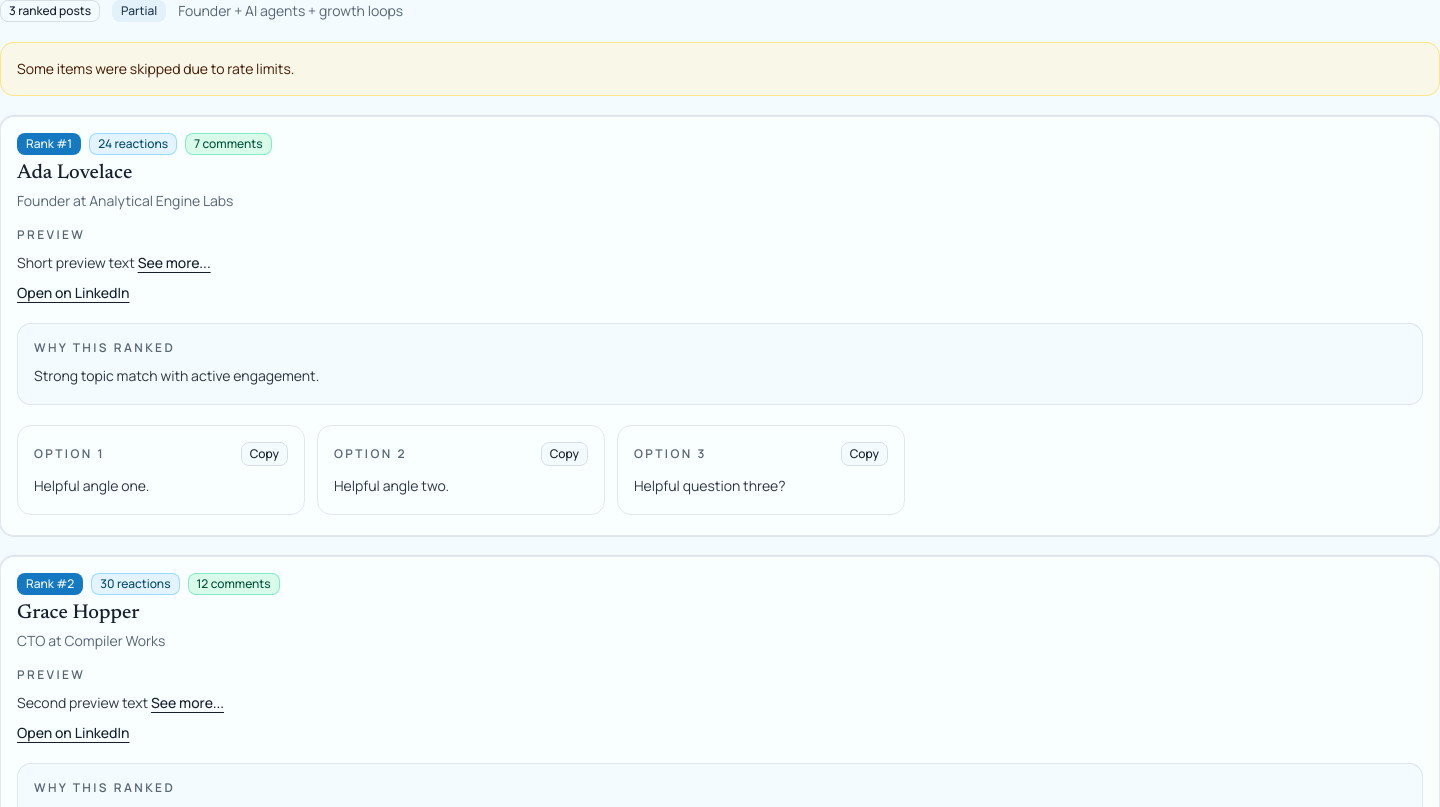
Test: ResultDisplay › reveals post continuation inline from the preview boundary
expect the text "TAIL_ONE" is not shown: met
Click the button with aria-label "See more post text for Ada Lovelace": click(174, 263) 138,251 -> 211,275
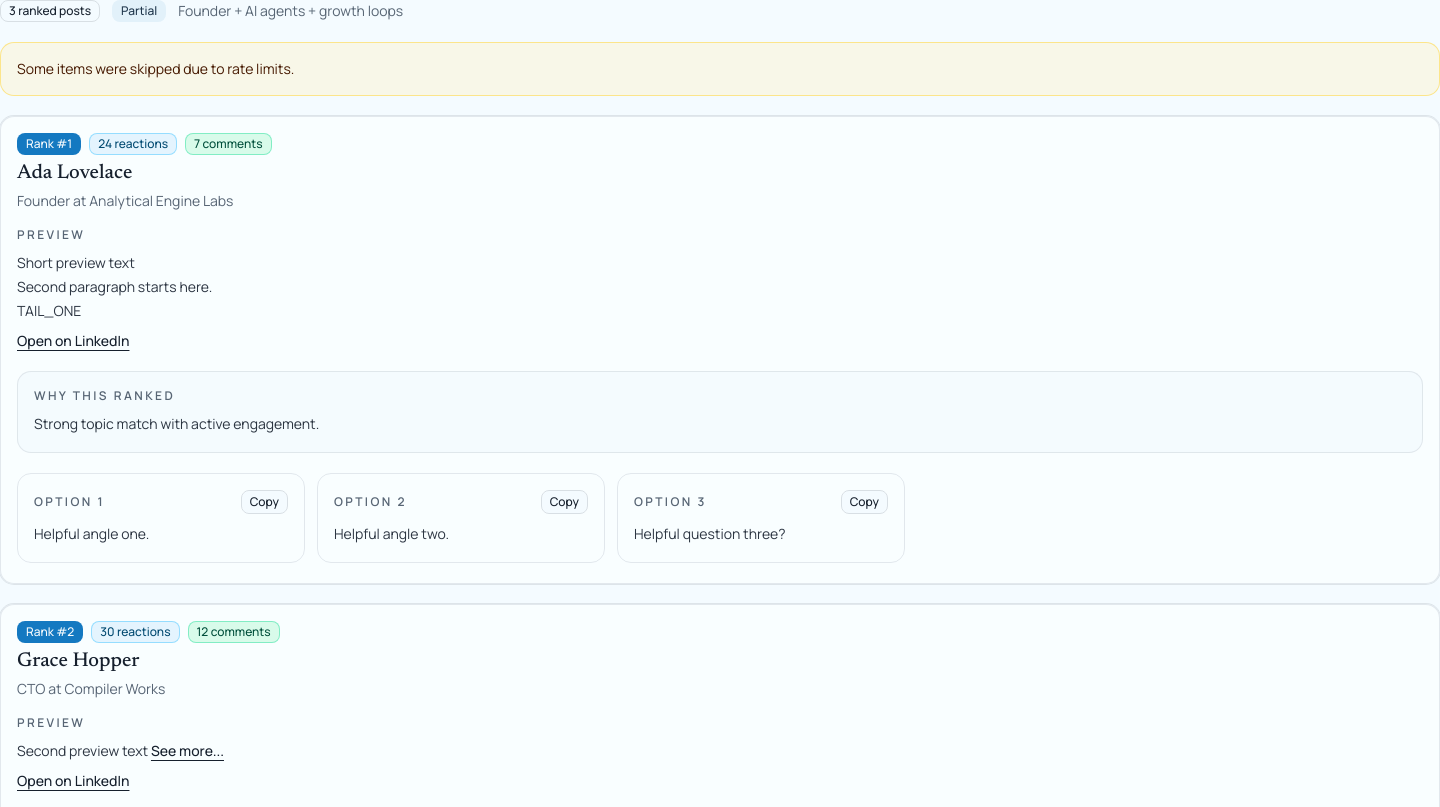
expect the text "Short preview text Second paragraph starts here. TAIL_ONE" is shown: met, box 17,253 -> 212,320
